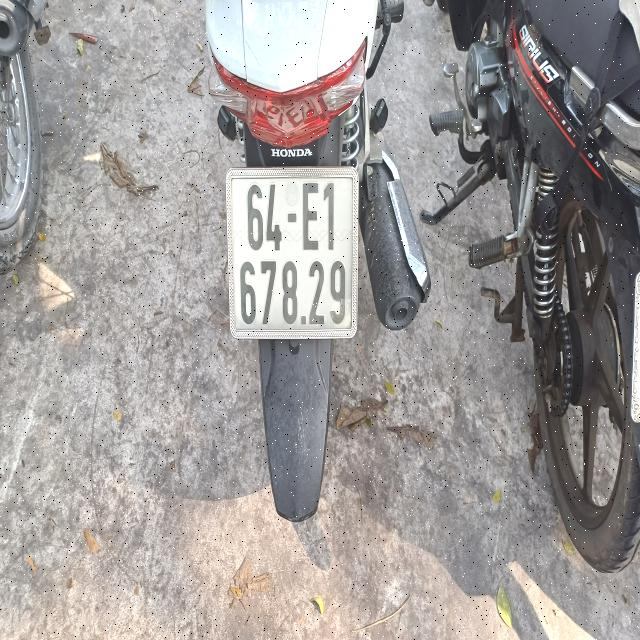1: (322, 182, 337, 254)
2: (308, 262, 326, 328)
4: (266, 184, 284, 254)
6: (239, 259, 257, 327), (246, 185, 264, 252)
7: (261, 258, 277, 328)
8: (282, 260, 298, 324)
9: (328, 258, 348, 324)
E: (300, 182, 320, 251)
